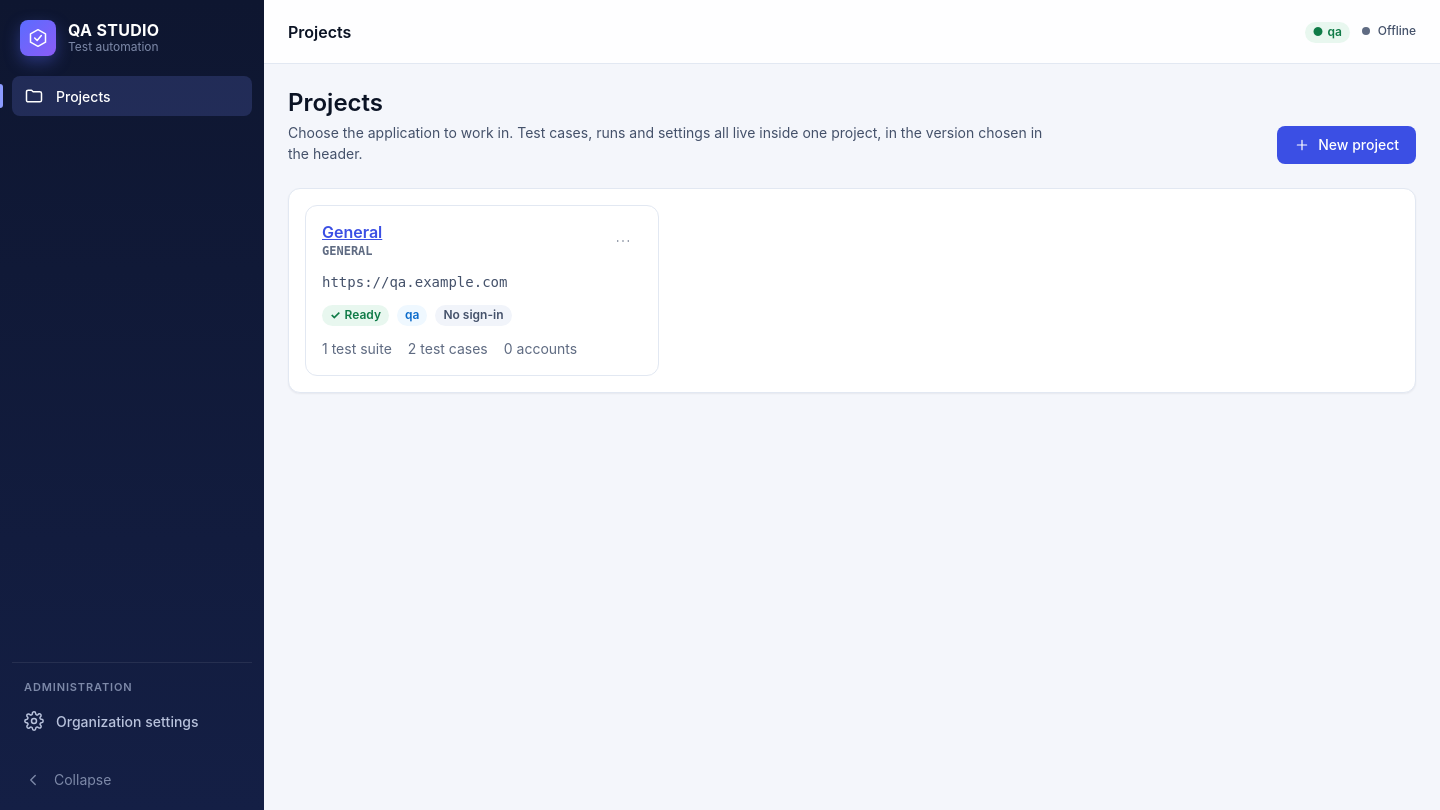
Test: projects page › warns before a delete the server will refuse, and shows its refusal
What coordinates should you click on to do the following:
click the button named "Actions for General"
I would click on:
 (623, 241)
Its box is [604, 222, 642, 260].
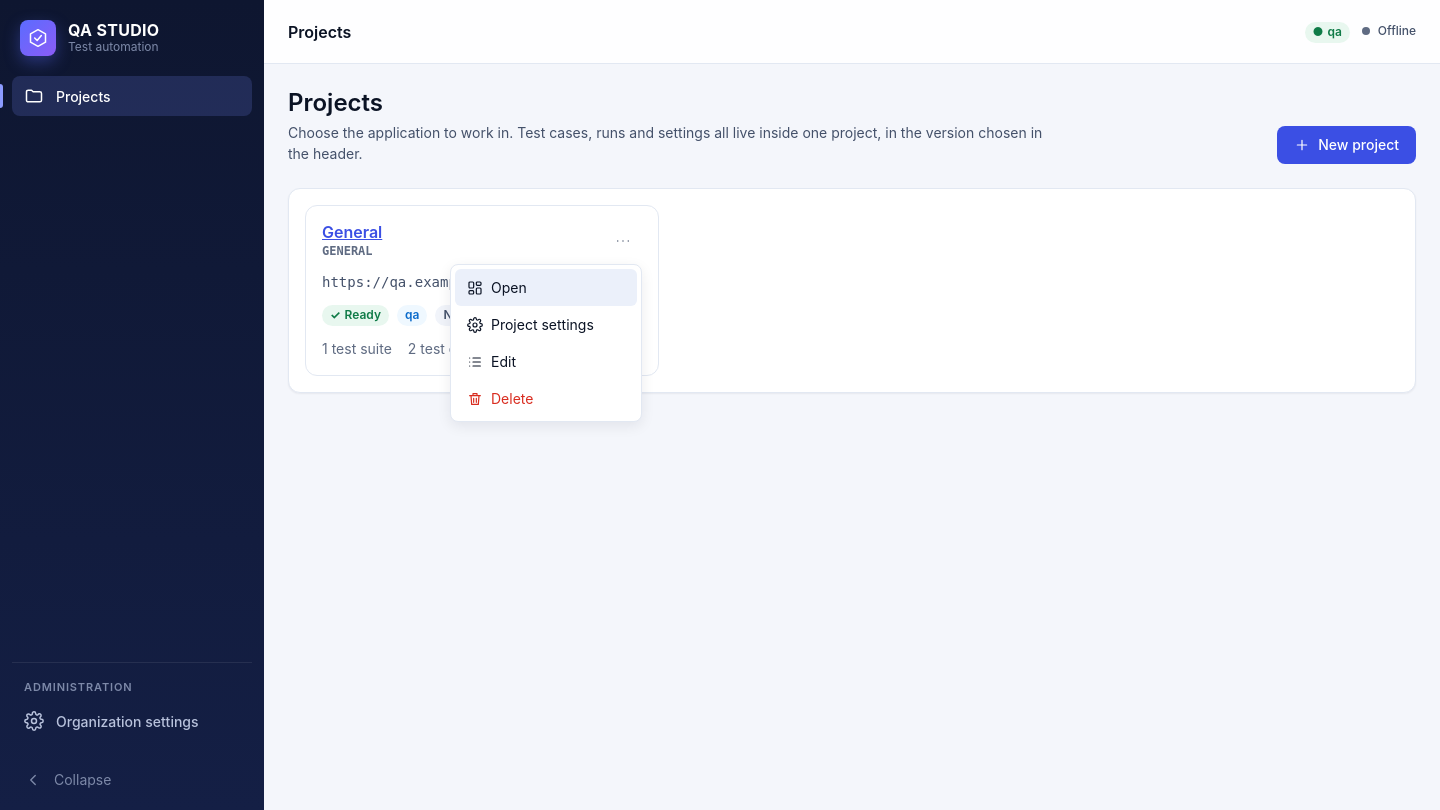
What coordinates should you click on to do the following:
click the menu item "Delete"
I would click on:
 (546, 398)
Its box is [455, 380, 637, 417].
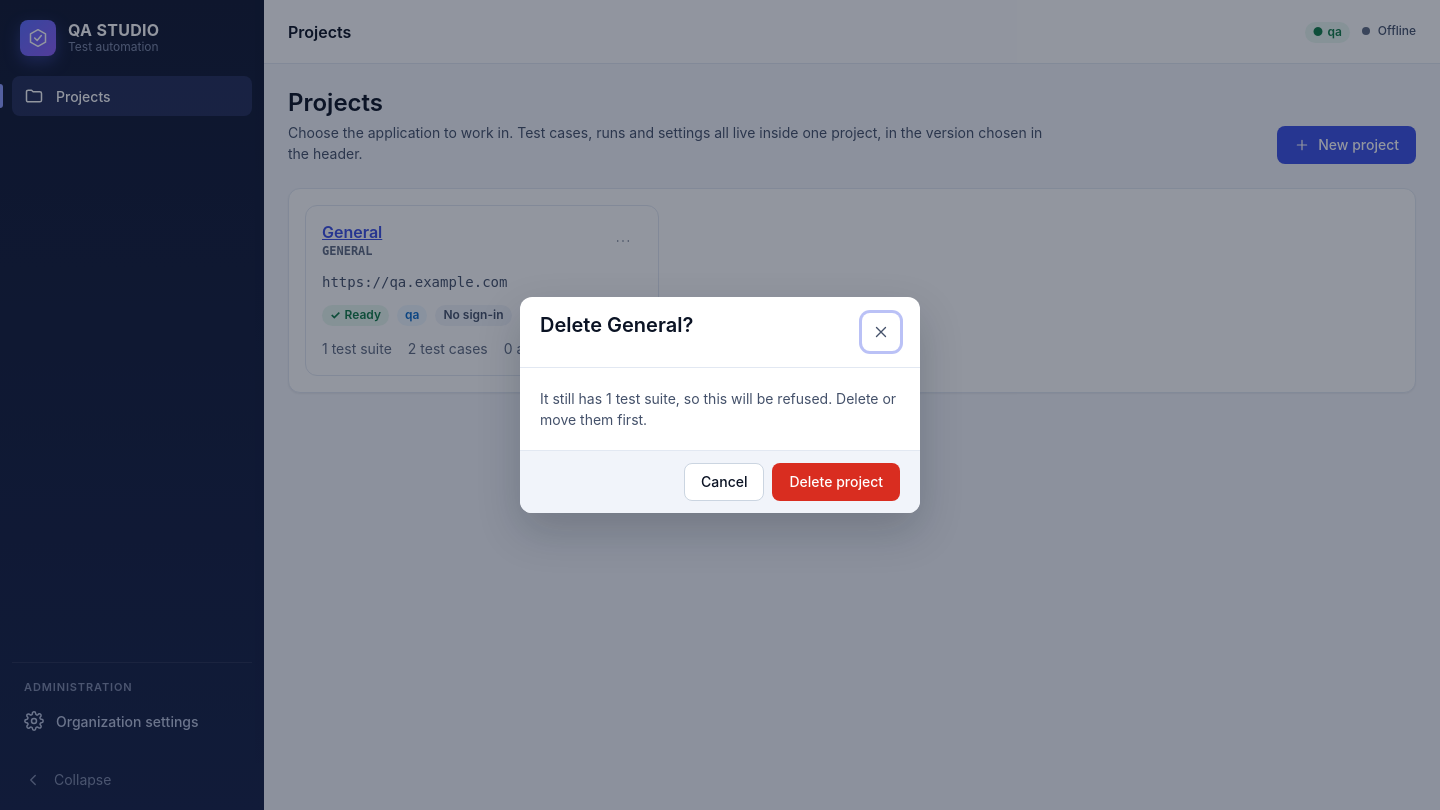
Now the text "still has 1 test suite" is shown, box [540, 390, 896, 428]
What coordinates should you click on to do the following:
click the button "Delete project"
I would click on:
 (836, 482)
Its box is [772, 463, 900, 501].
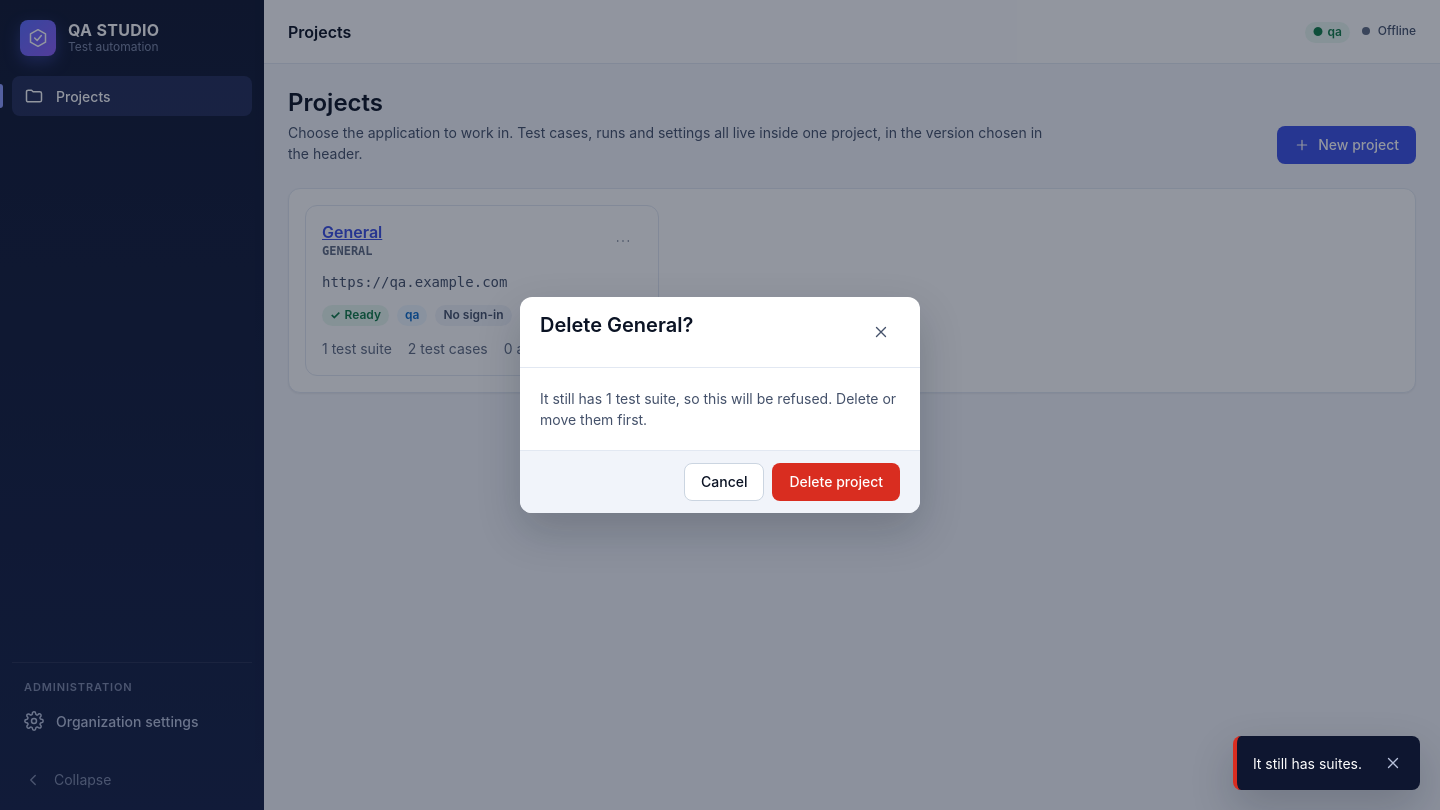
Now the text "It still has suites." is shown, box [1253, 752, 1362, 774]
